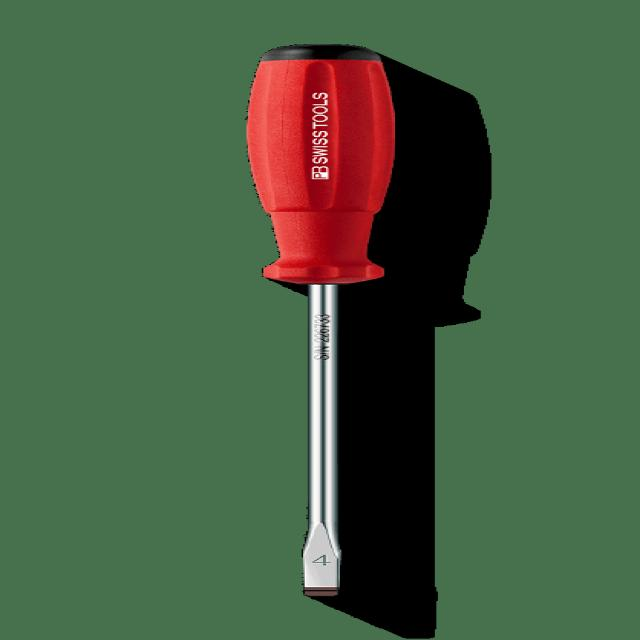Screwdriver: (247, 44, 395, 599)
